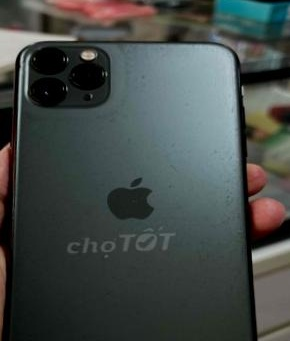scratch: (218, 128, 261, 341), (105, 32, 147, 131), (192, 185, 219, 308), (18, 103, 134, 129), (141, 33, 228, 61), (161, 138, 181, 190), (100, 288, 115, 302)
